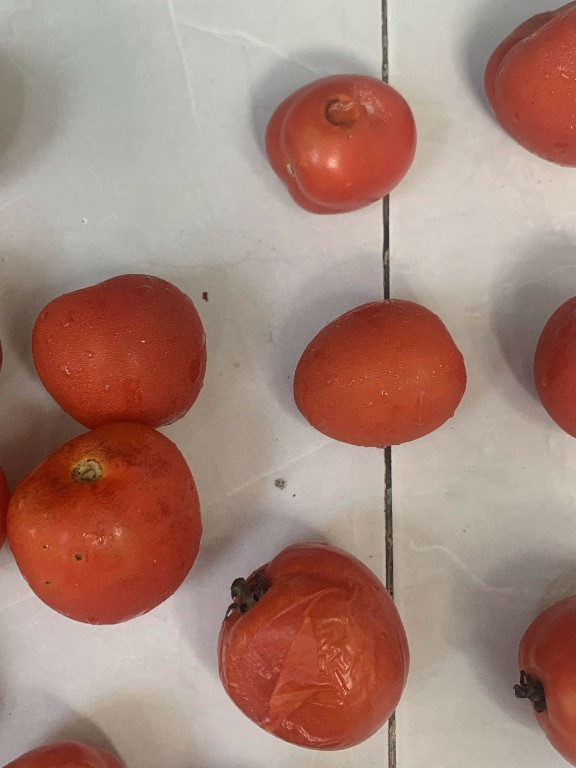NG: (225, 534, 427, 756), (10, 419, 199, 627), (254, 60, 415, 217)
OK: (274, 271, 485, 470), (20, 263, 224, 444)
